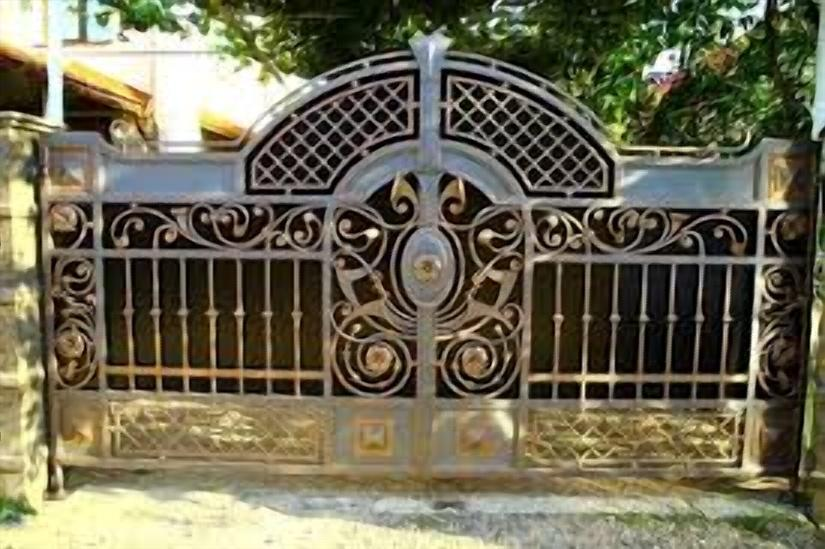Gate: (40, 29, 825, 501)
